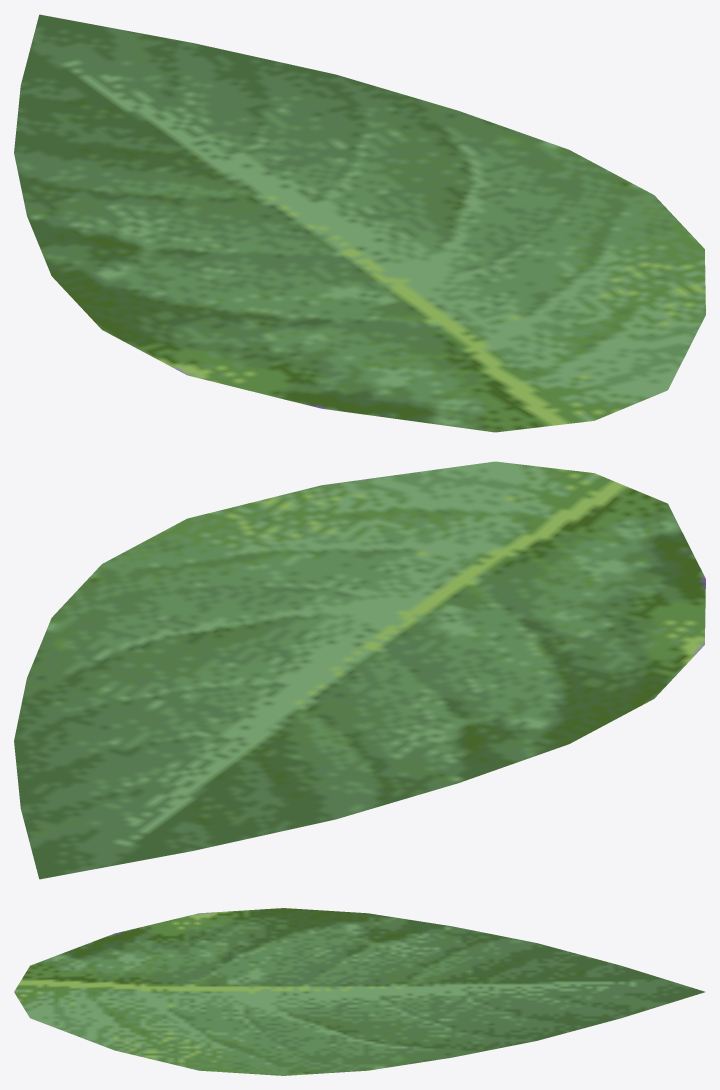
Rendered from leaf.glb.
3 renders of one model, top to bottom at view 1: azimuth 30°, elevation 25°; view 2: azimuth 150°, elevation 25°; view 3: azimuth 270°, elevation 25°, orthographic. The views are drawn at different scales.
Parts seen in each view (by area): view 1: Plane; view 2: Plane; view 3: Plane.
Part boxes in pixels (x1,y1,x2,y2): Plane: [14, 14, 705, 432]; Plane: [14, 461, 705, 879]; Plane: [14, 908, 704, 1075].
Bounding box in the file's own units: 1.18 × 0 × 2.05.
Materials: 1 (1 with a texture image).
